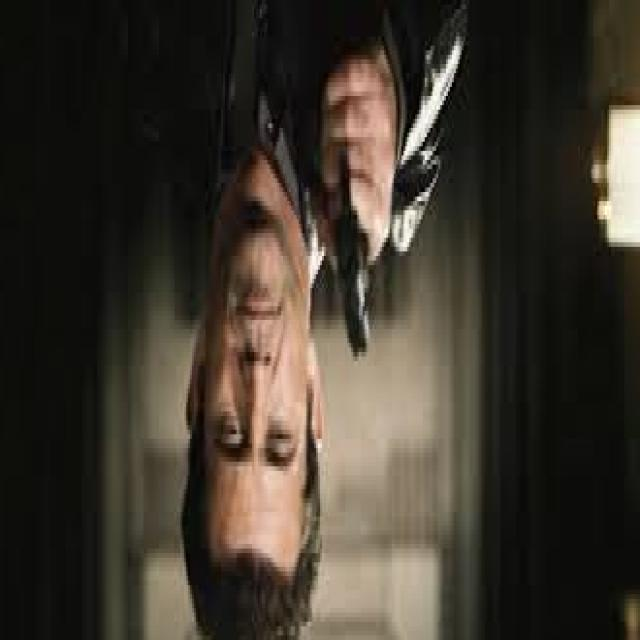gun: (314, 128, 378, 369)
